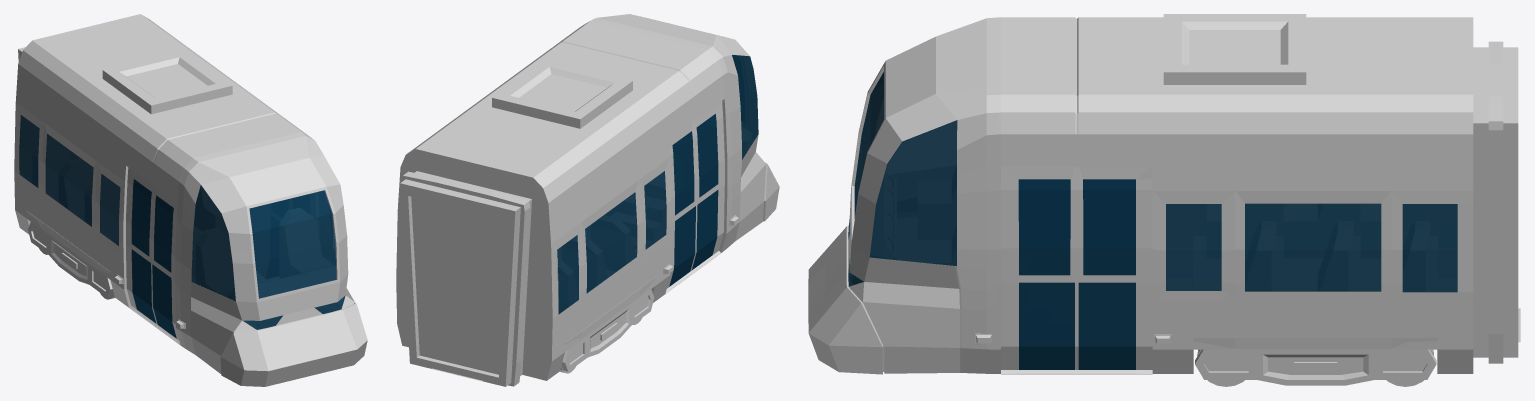
File: tram_engine_seperate_wheels_fixed_doors.fbx
The picture shows the model from 3 angles, left to right: view 1: azimuth 30°, elevation 25°; view 2: azimuth 150°, elevation 25°; view 3: azimuth 270°, elevation 25°; orthographic projection. The views are drawn at different scales.
Parts seen in each view (by area): view 1: tram_engine_fixed_doors, tram_engine_glass.001, tram_engine_wedge.001; view 2: tram_engine_fixed_doors, tram_engine_glass.001, tram_engine_wedge.001; view 3: tram_engine_fixed_doors, tram_engine_glass.001, tram_engine_wedge.001.
Part boxes in pixels (bbox=[...]): tram_engine_fixed_doors: bbox=[14, 14, 367, 386]; tram_engine_glass.001: bbox=[19, 115, 345, 338]; tram_engine_wedge.001: bbox=[28, 222, 113, 297]; tram_engine_fixed_doors: bbox=[396, 14, 779, 386]; tram_engine_glass.001: bbox=[557, 54, 758, 314]; tram_engine_wedge.001: bbox=[561, 289, 654, 371]; tram_engine_fixed_doors: bbox=[808, 14, 1520, 374]; tram_engine_glass.001: bbox=[848, 72, 1457, 369]; tram_engine_wedge.001: bbox=[1195, 349, 1436, 385].
Size of the model in its own units: 353 by 453 by 985.
